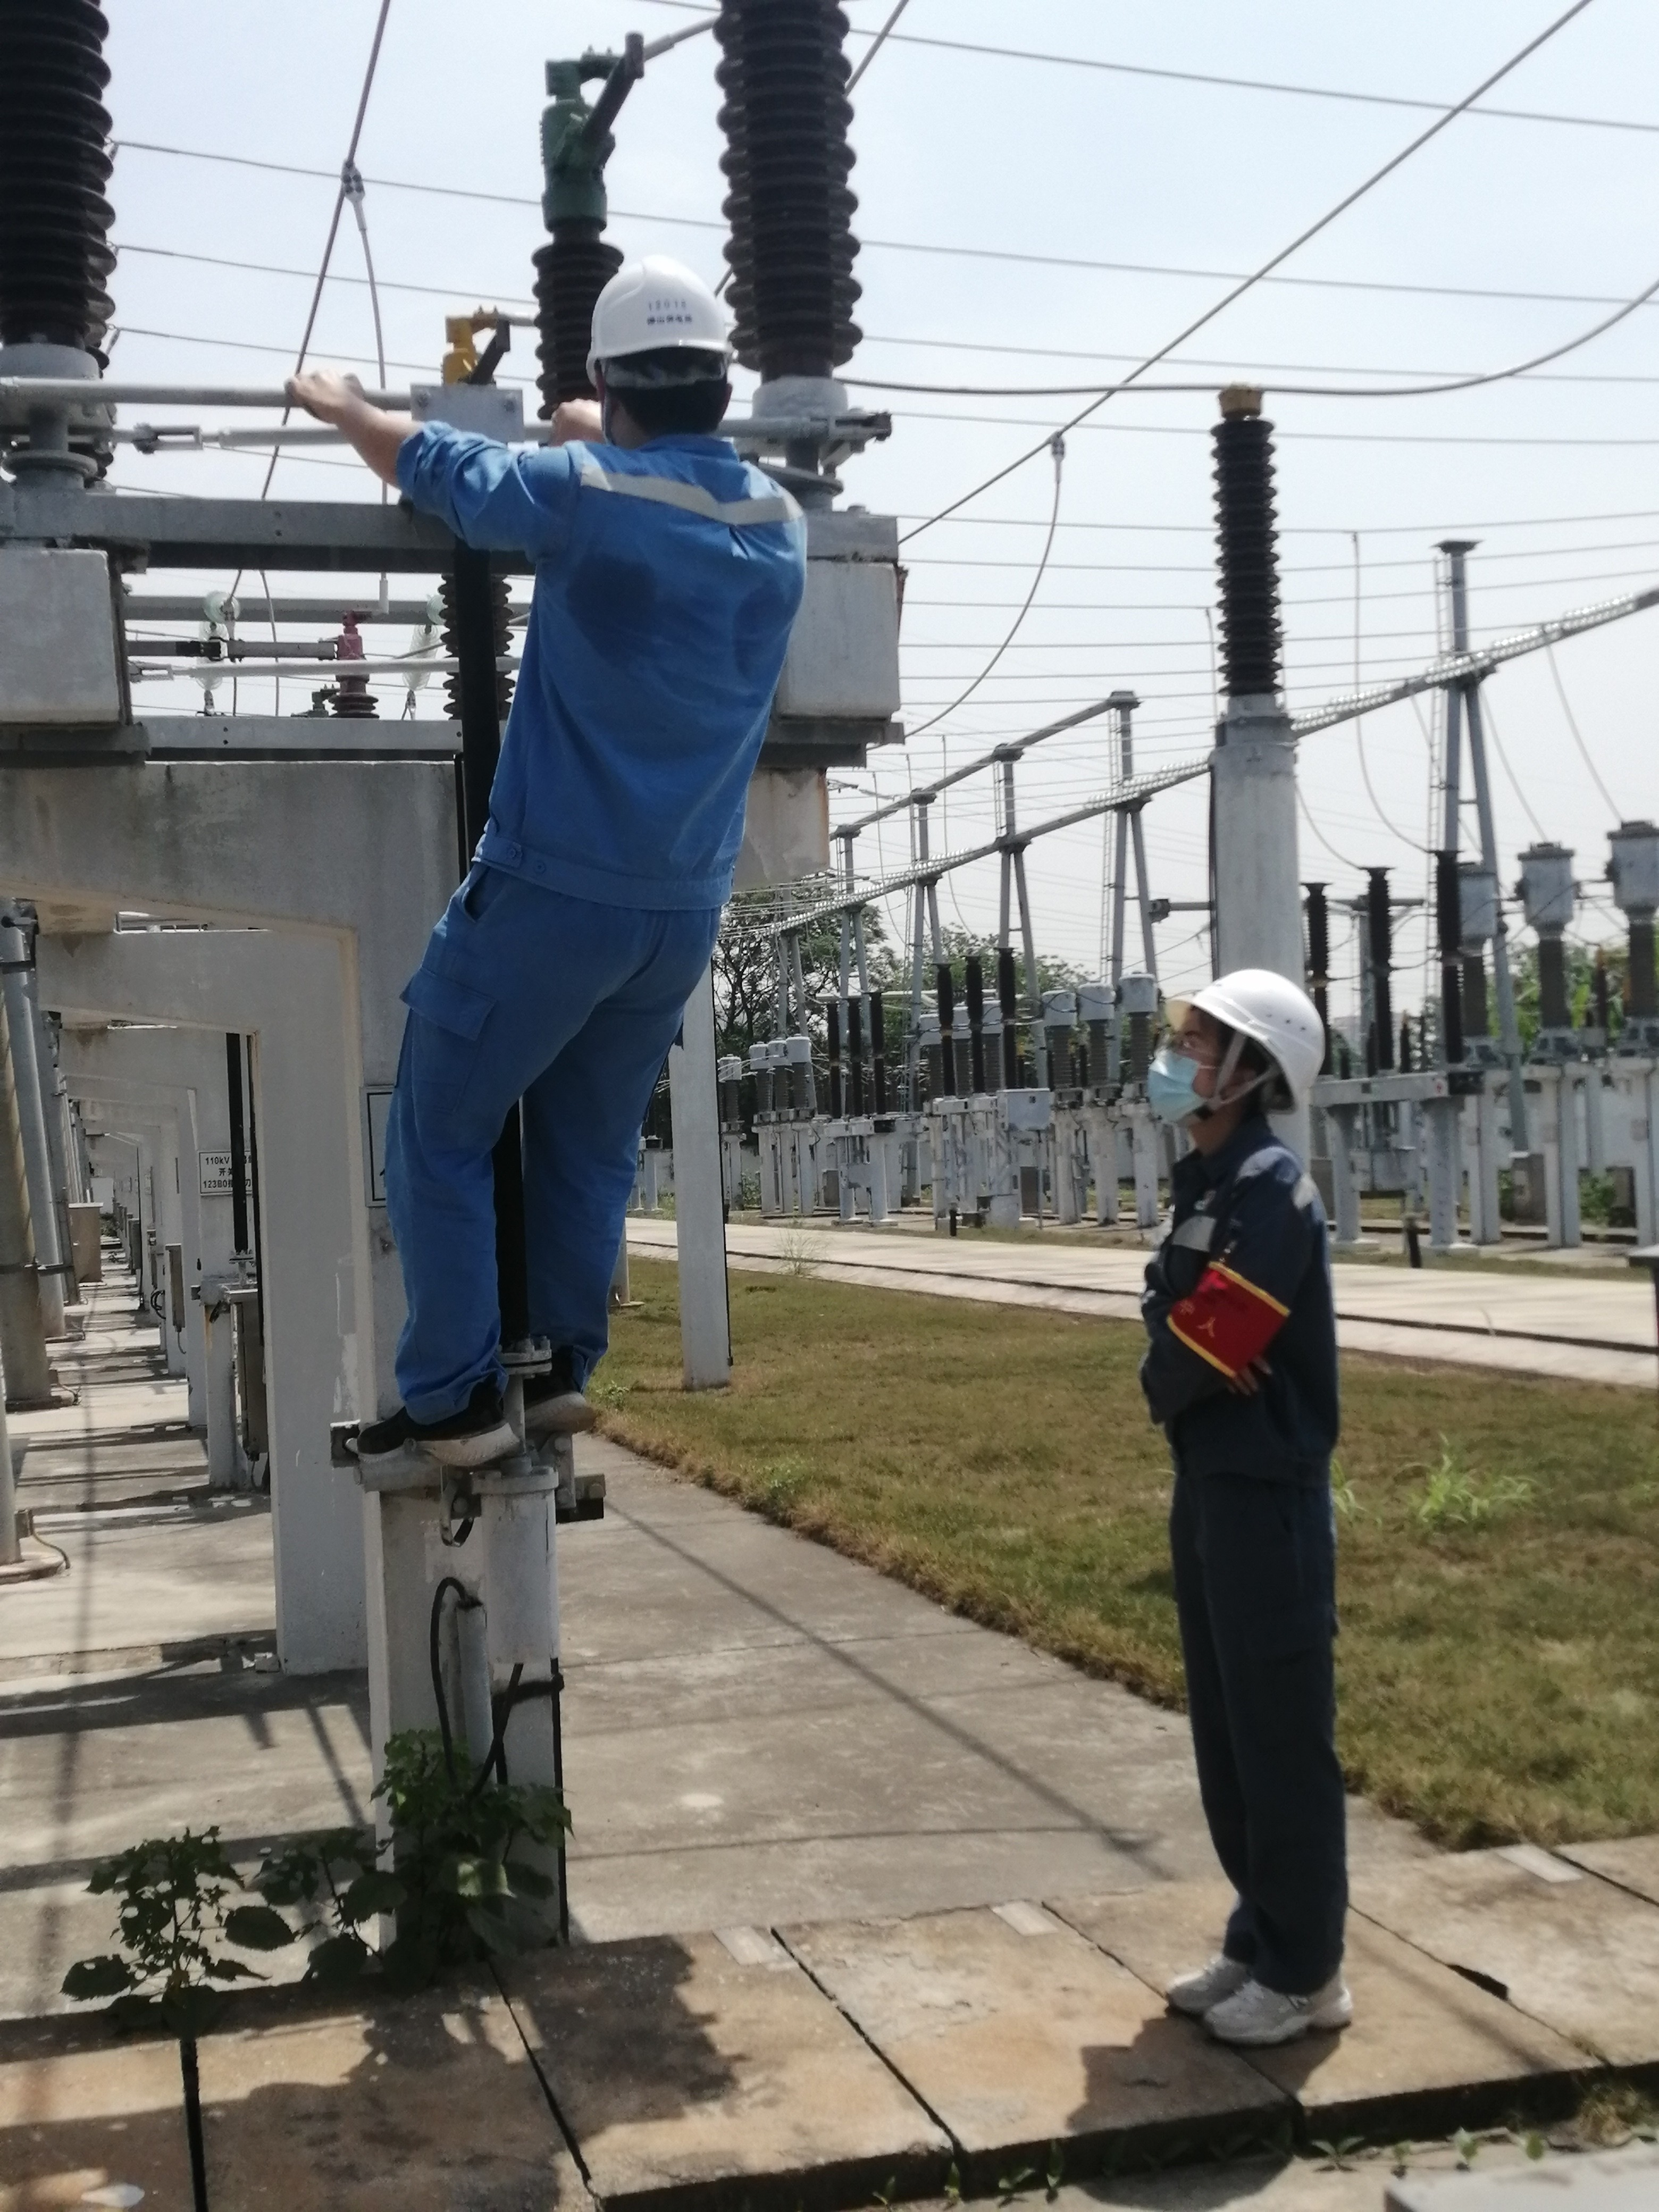downsuit: (362, 939, 732, 1414), (1162, 1468, 1358, 1993)
upsuit: (420, 435, 810, 906), (1129, 1125, 1359, 1433)
wrongtop: (286, 361, 458, 509)
